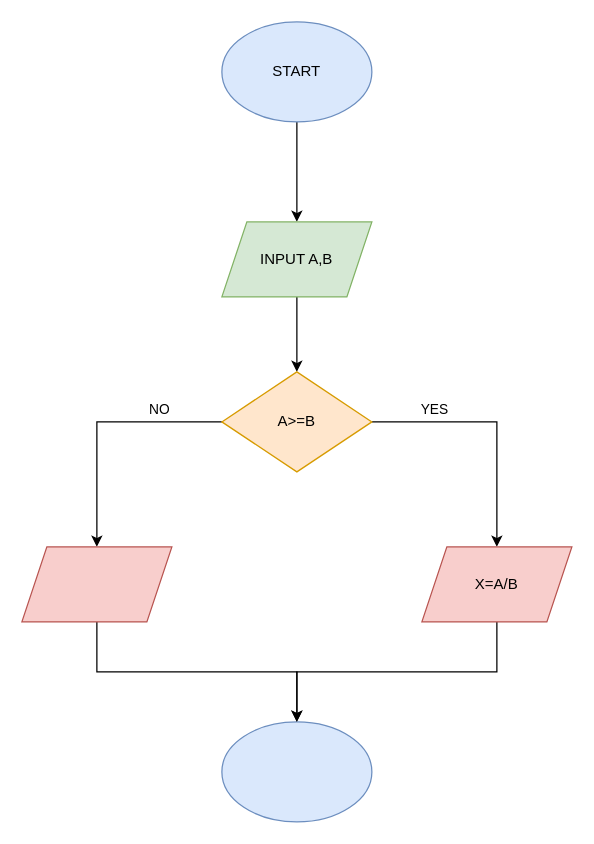
Image size: 594x844. Some labels were removed from this diagram. Here are the shapes that lost their labels. From the top down, the centre of each, then its label:
At point (96, 584): "X=A*B".
At point (296, 771): "STOP".
